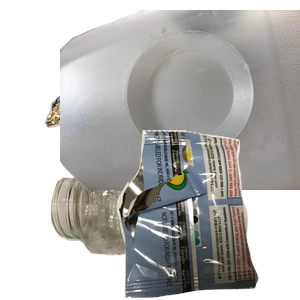glass: (48, 156, 260, 300)
metal: (42, 72, 239, 229)
plastic: (60, 10, 300, 190)
trash: (114, 130, 300, 300)
